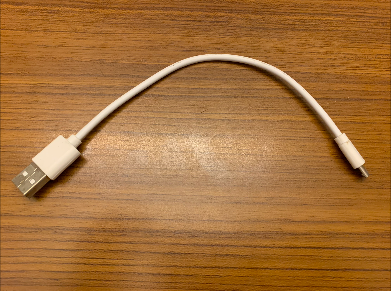Nonfood: (16, 44, 369, 205)
